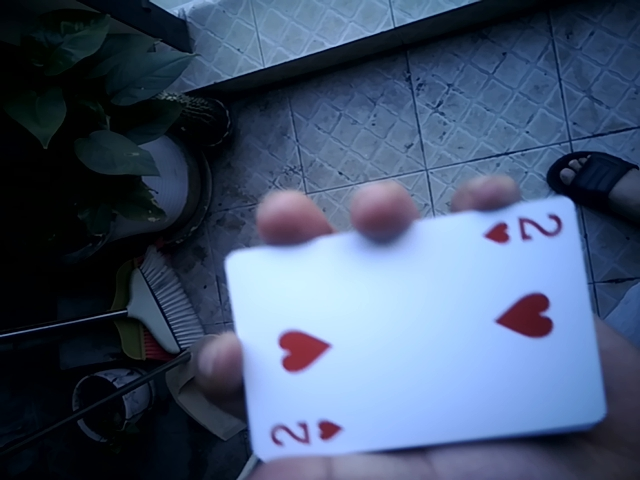hx 2: (214, 202, 604, 470)
